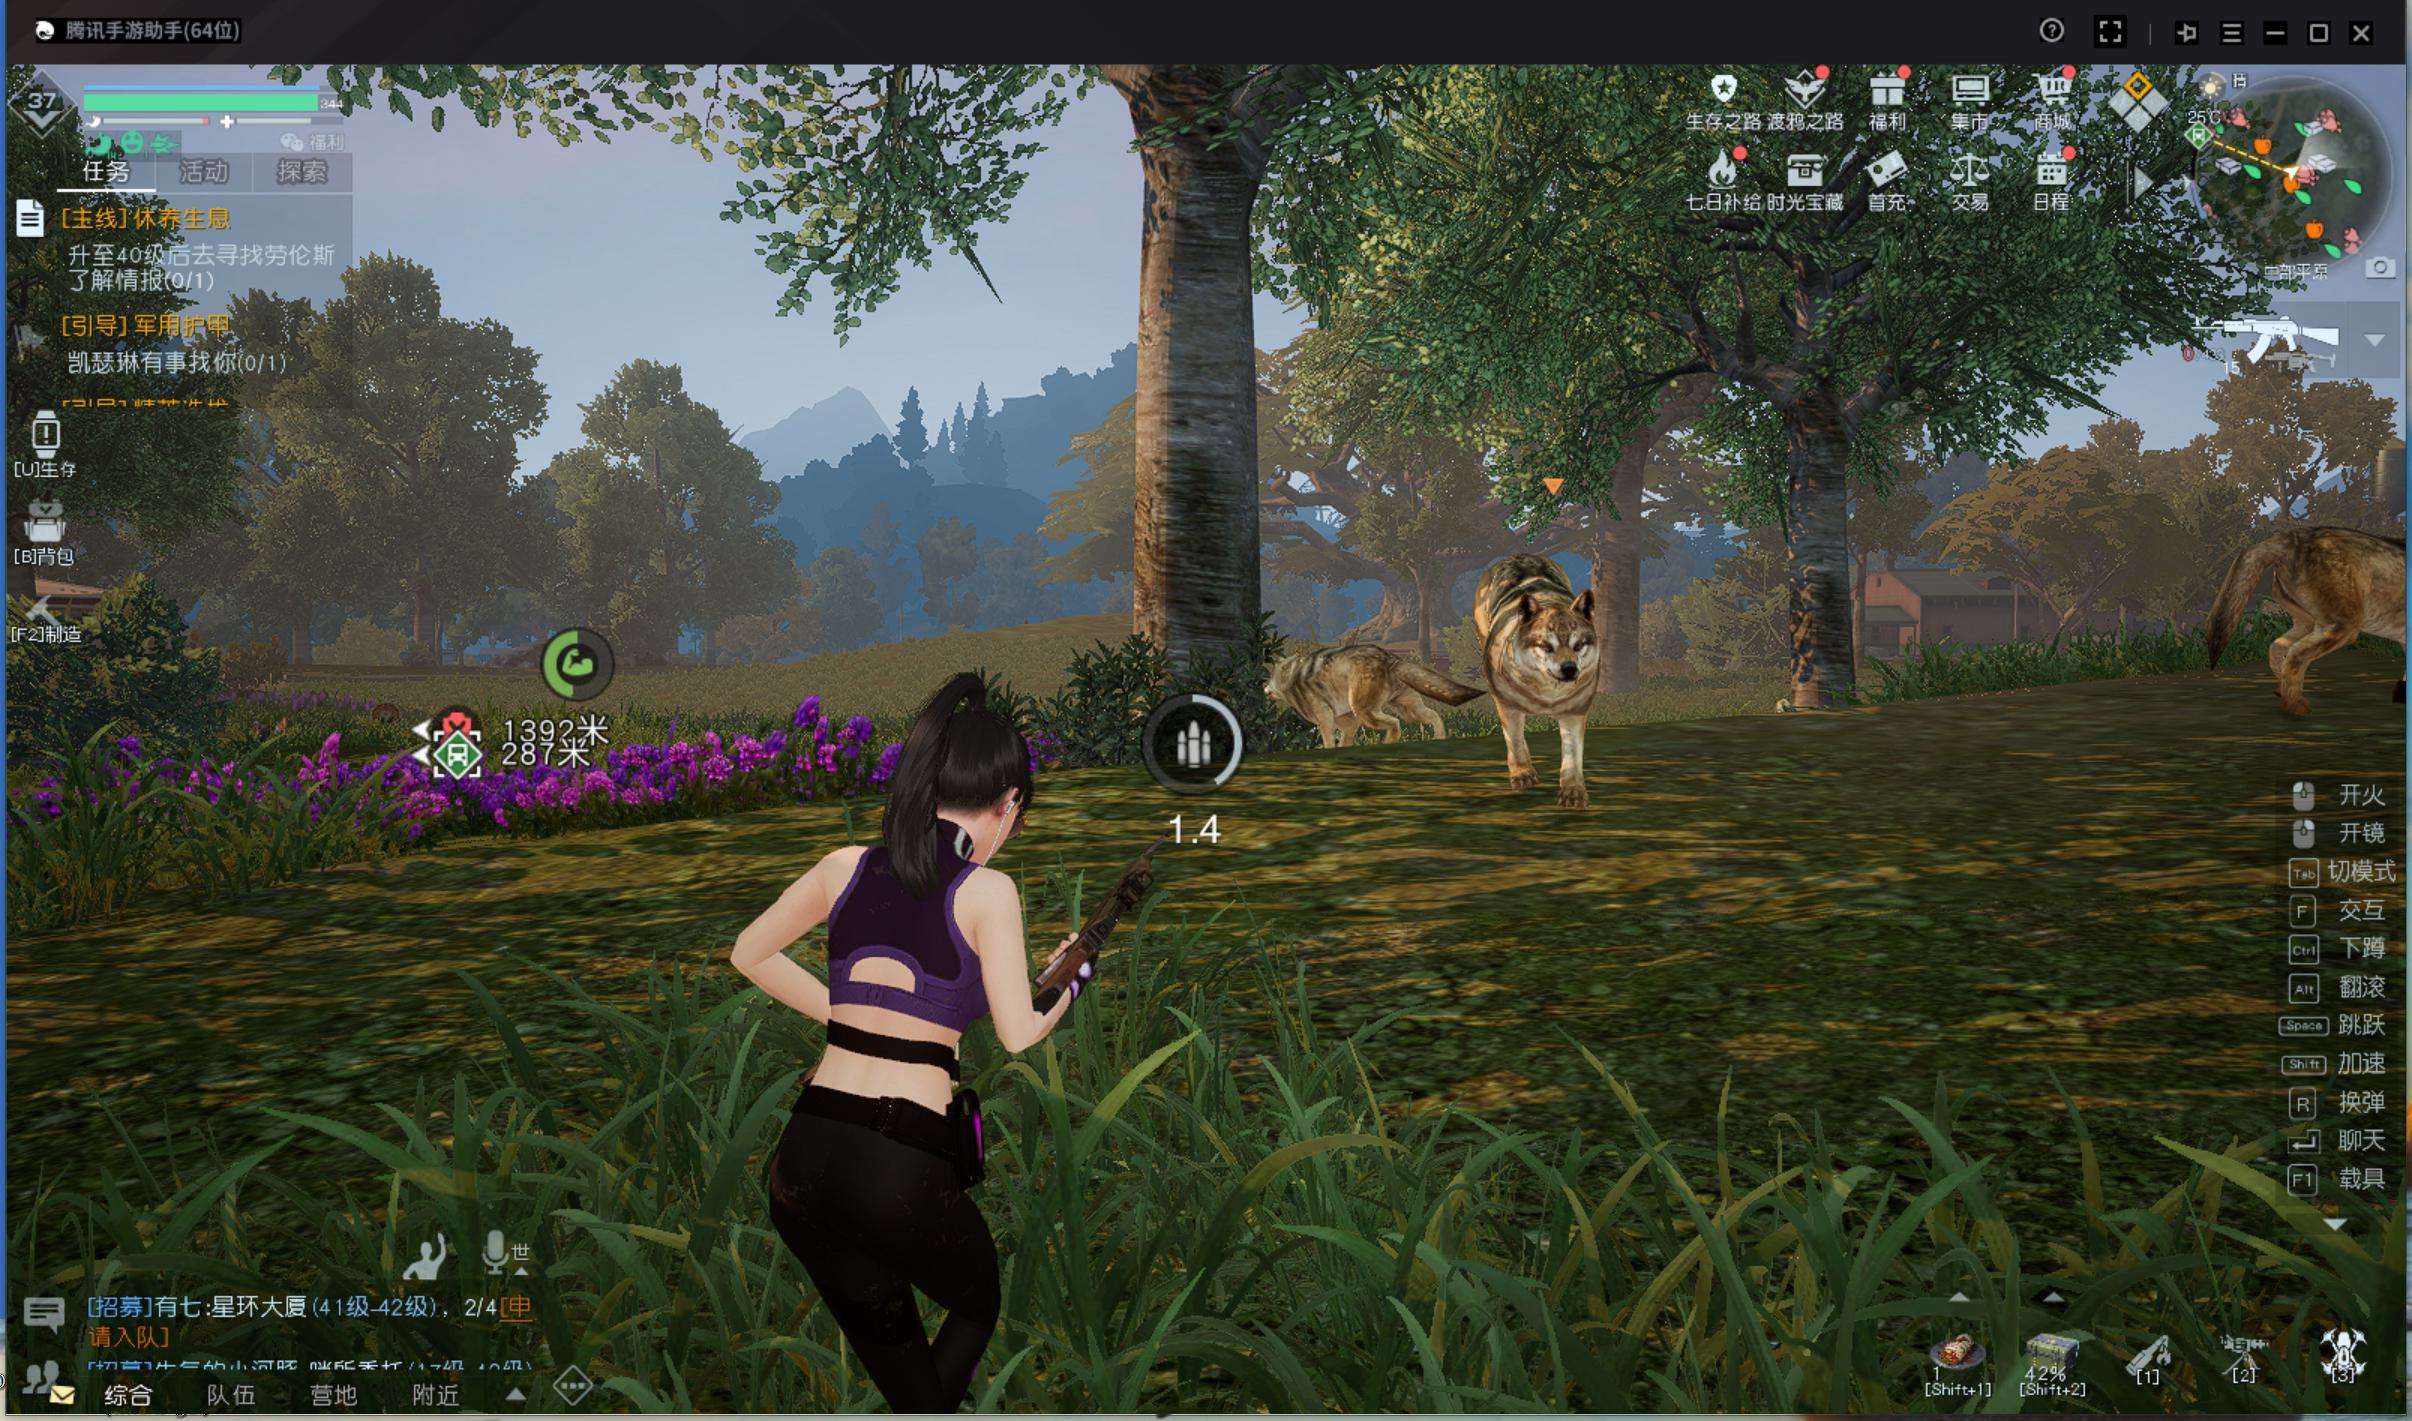tree: (1110, 244, 1287, 771), (1778, 448, 1867, 743), (1590, 447, 1654, 702)
